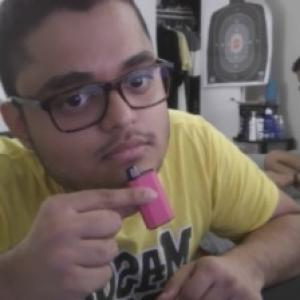Blume-E-Ciggirate: (126, 163, 176, 231)
